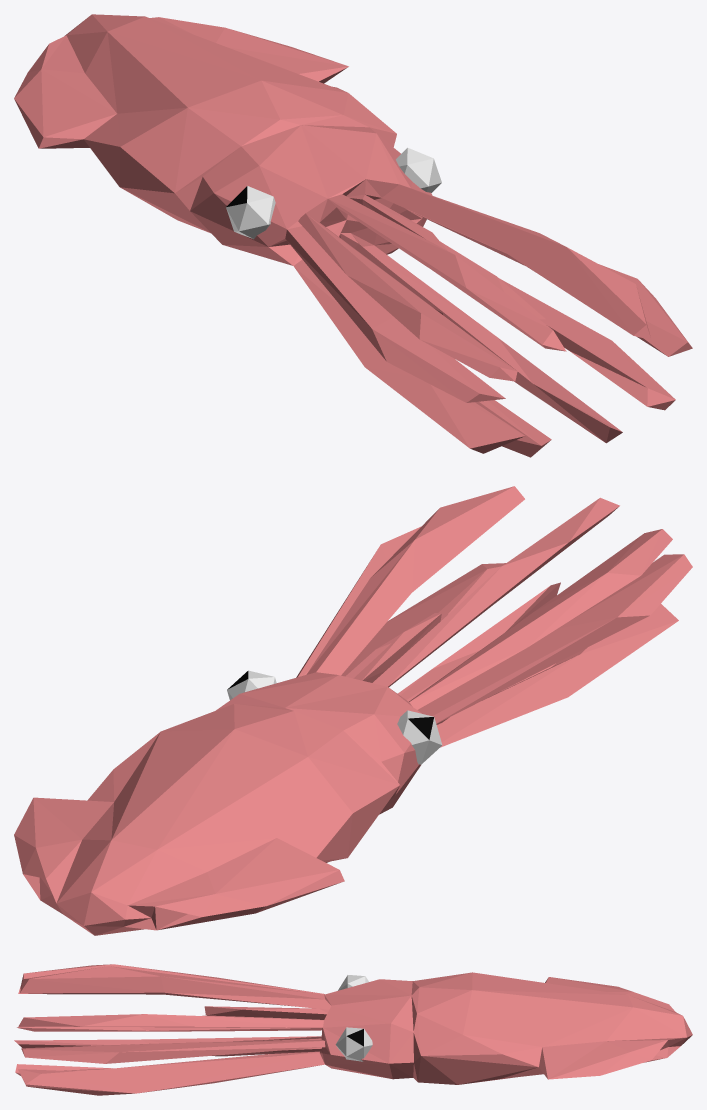
The model's file is LowPoly_Squid.fbx.
The picture shows the model from 3 angles, top to bottom: view 1: azimuth 30°, elevation 25°; view 2: azimuth 150°, elevation 25°; view 3: azimuth 270°, elevation 25°; orthographic projection. The views are drawn at different scales.
Parts seen in each view (by area): view 1: Squid; view 2: Squid; view 3: Squid.
Part boxes in pixels (<box>): Squid: <box>14,14,692,457</box>; Squid: <box>14,486,692,935</box>; Squid: <box>14,964,692,1095</box>.
Size of the model in its own units: 254 by 105 by 713.
